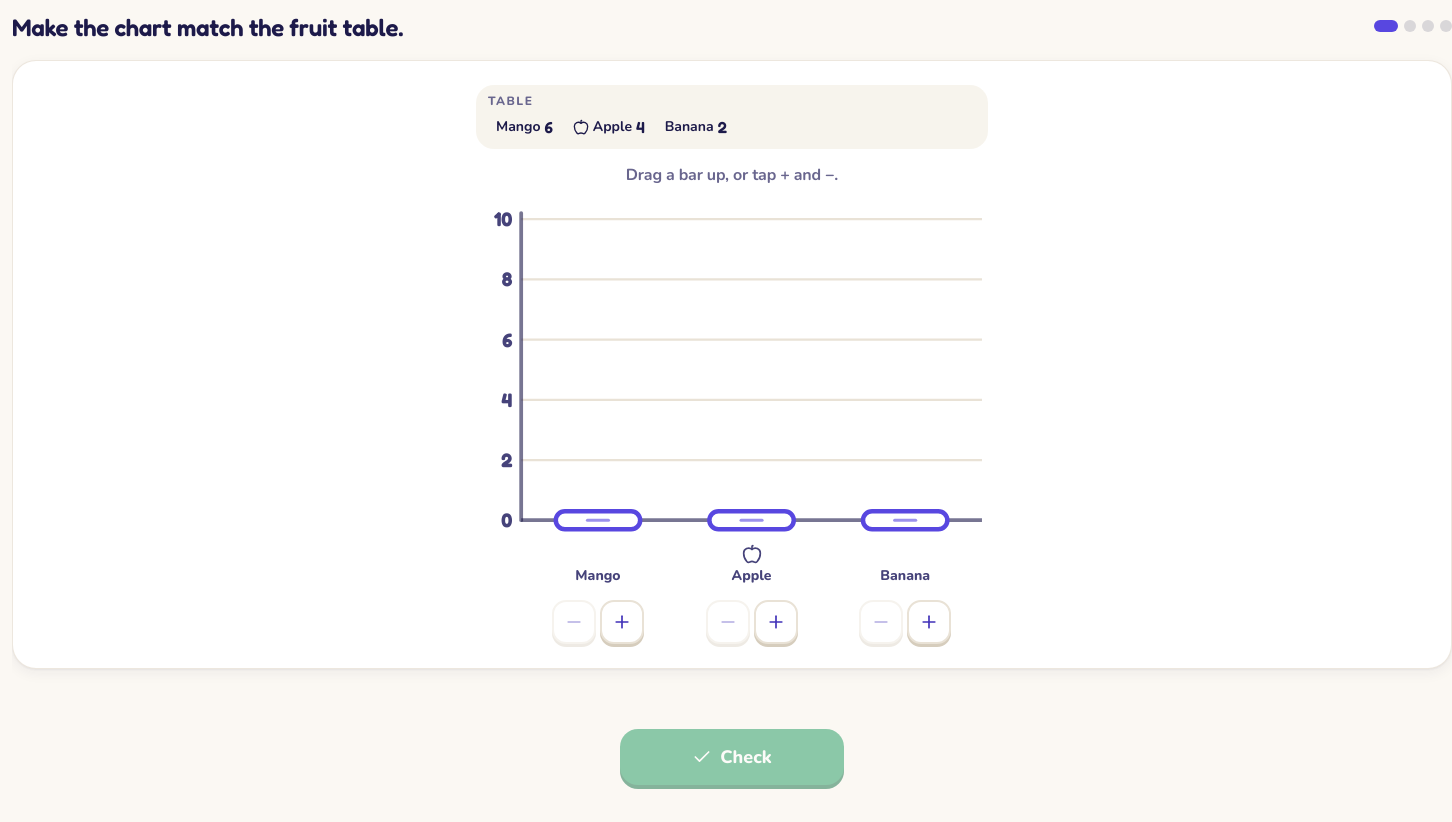
it: Bar Chart Builder (played through the UI) › shows one build task: the table, empty bars on a labelled scale, and Check
This screenshot has width=1452, height=822.
Check: the list items read "Mango 6", "Apple 4", "Banana 2", in this order, box [496,117,553,137]; [573,117,645,137]; [665,117,727,137]
Check: the picture named "Bar chart. The scale goes from 0 to 10 in steps of 2." is shown, box [476,201,988,538]
Click the button "Check": (732, 757) [620,729,844,785]
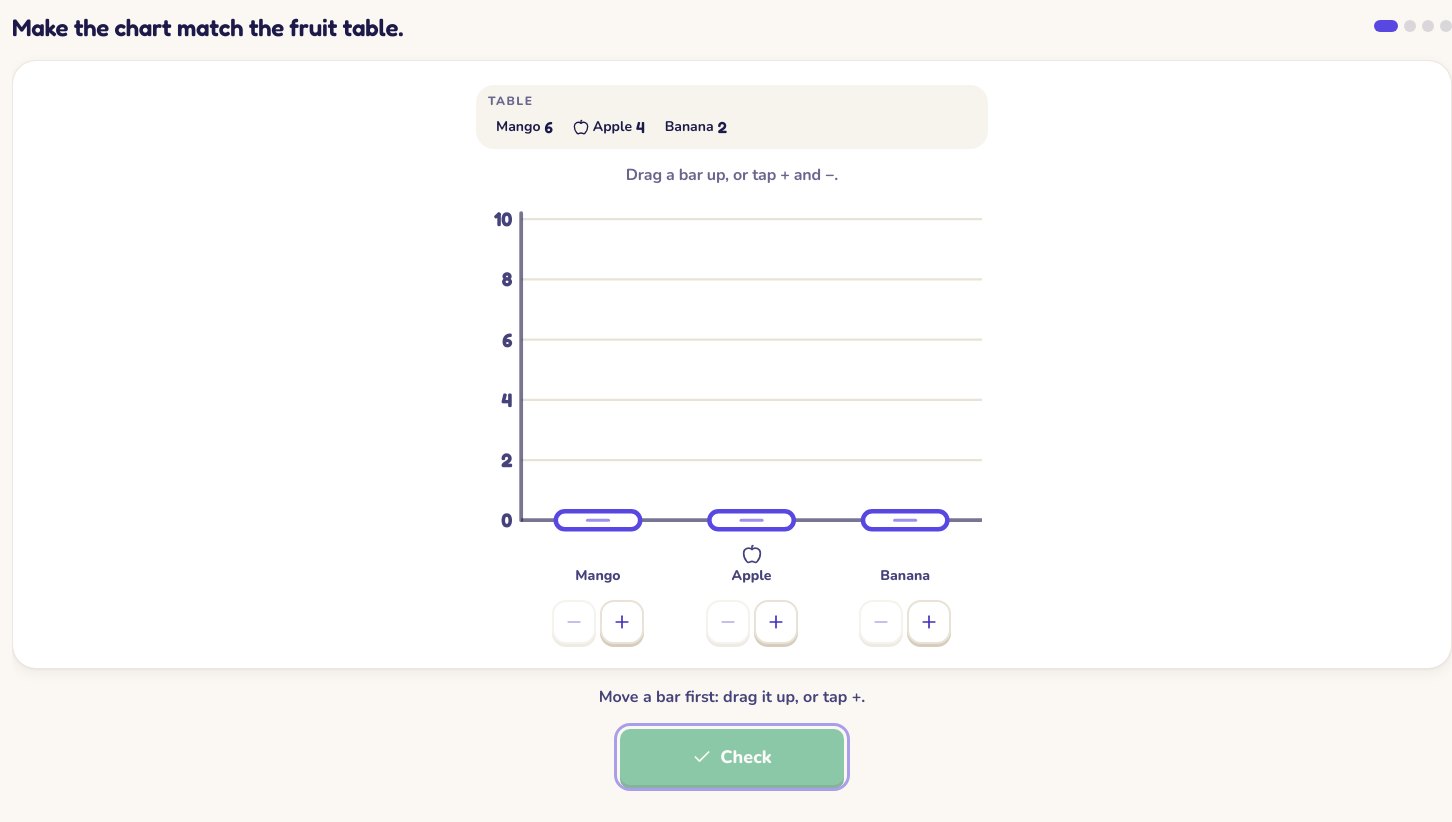
Check: the text "Move a bar first: drag it up, or tap +." is shown, box [599,686,865,708]
